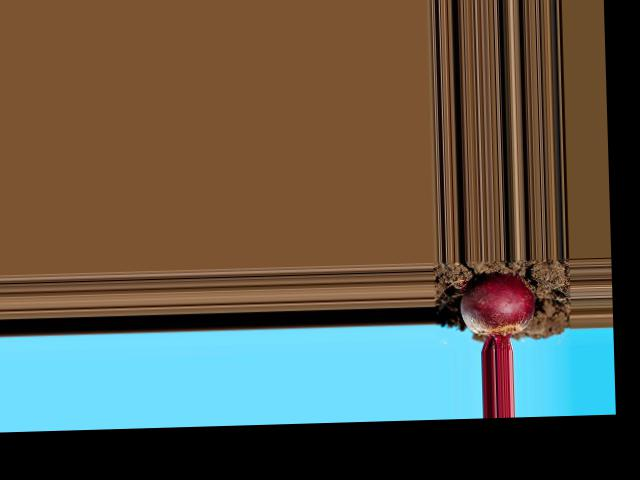beet: (458, 272, 535, 352)
